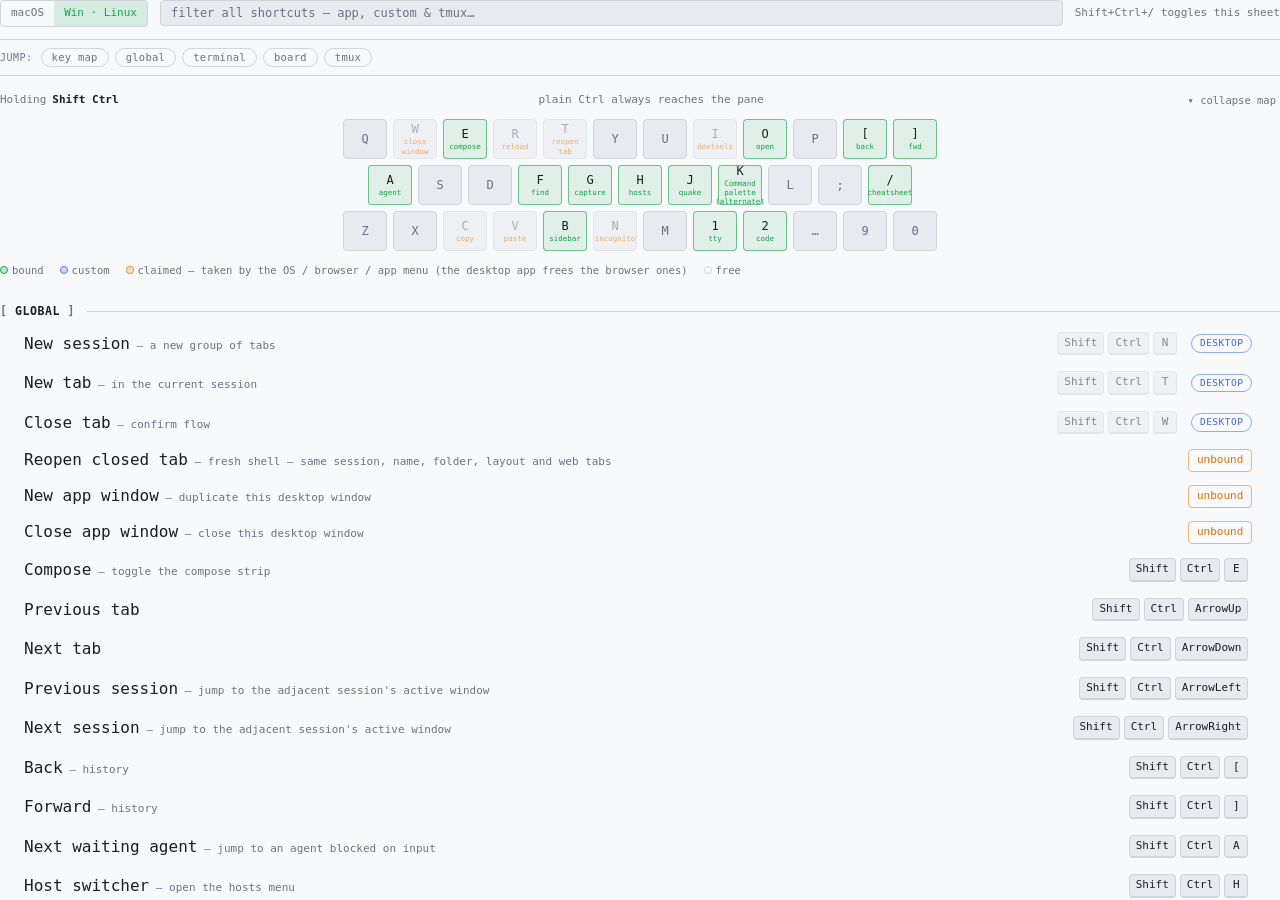
SettingsShortcutsPanel merged view (260801-sm6g) › one filter spans app + tmux rows and the tmux chip counts them
Type "split" into the field named "Filter shortcuts" at (611, 13), box [160,0,1063,26]
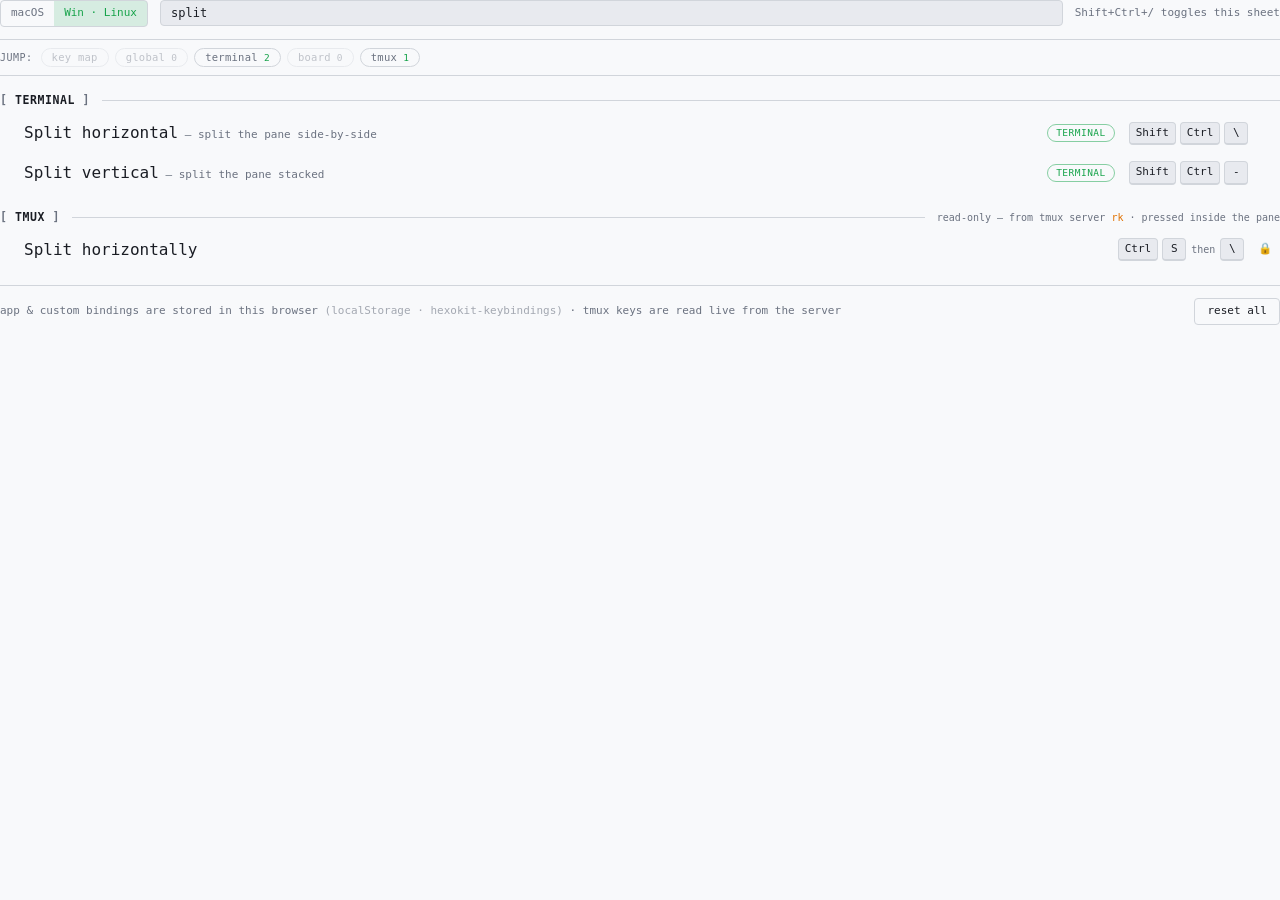
Expected: the text "Split horizontally" is shown, [24,240,197,258]
Now the button "tmux1" is shown, box [360,48,420,67]
Now the button "global0" is shown, box [115,48,188,67]
